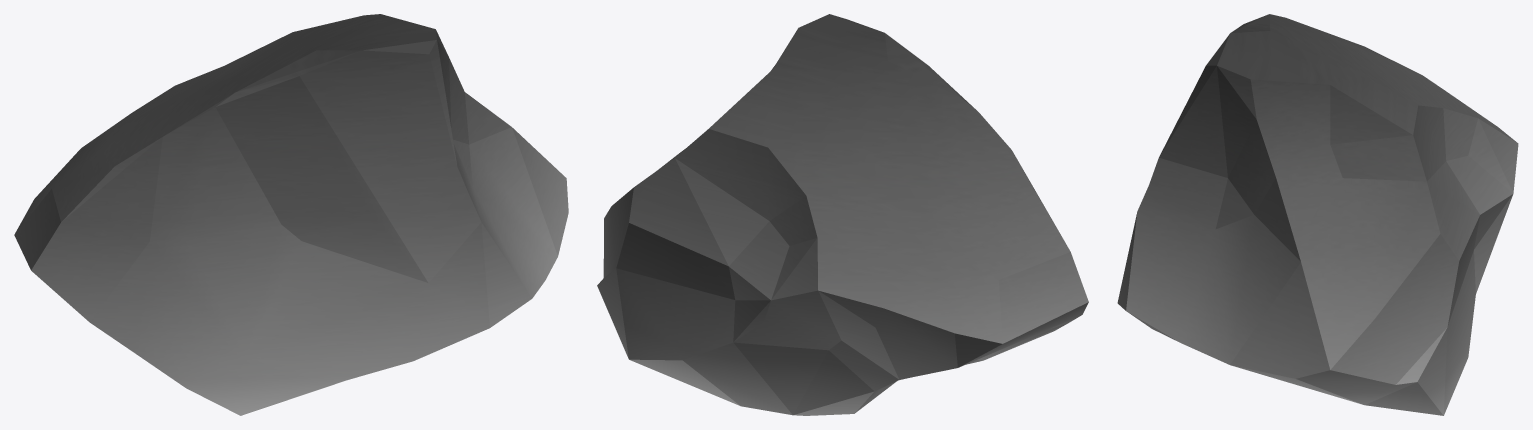
Rendered from Rock_03.fbx.
The picture shows the model from 3 angles, left to right: view 1: azimuth 30°, elevation 25°; view 2: azimuth 150°, elevation 25°; view 3: azimuth 270°, elevation 25°; orthographic projection. The views are drawn at different scales.
Parts seen in each view (by area): view 1: Rock_03; view 2: Rock_03; view 3: Rock_03.
Part boxes in pixels (x1,y1,x2,y2): Rock_03: (14, 14, 568, 415); Rock_03: (597, 14, 1088, 415); Rock_03: (1117, 14, 1518, 415).
Size of the model in its own units: 20.72 by 13.23 by 14.16.
